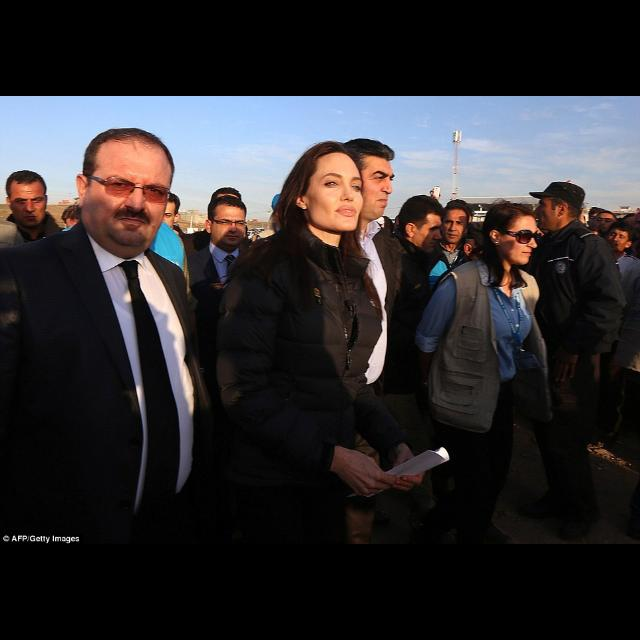head: (75, 126, 177, 258), (292, 142, 366, 235), (336, 142, 396, 222), (483, 202, 541, 268), (396, 194, 444, 256), (203, 193, 249, 250), (5, 170, 50, 228), (534, 186, 582, 232), (464, 224, 504, 268), (440, 202, 470, 245), (153, 192, 184, 230), (212, 188, 242, 222), (606, 222, 634, 252)
person: (515, 177, 631, 528), (180, 193, 282, 514), (373, 192, 455, 508), (178, 187, 268, 446), (427, 220, 515, 480), (0, 169, 78, 433), (130, 190, 197, 438), (422, 198, 486, 438)
